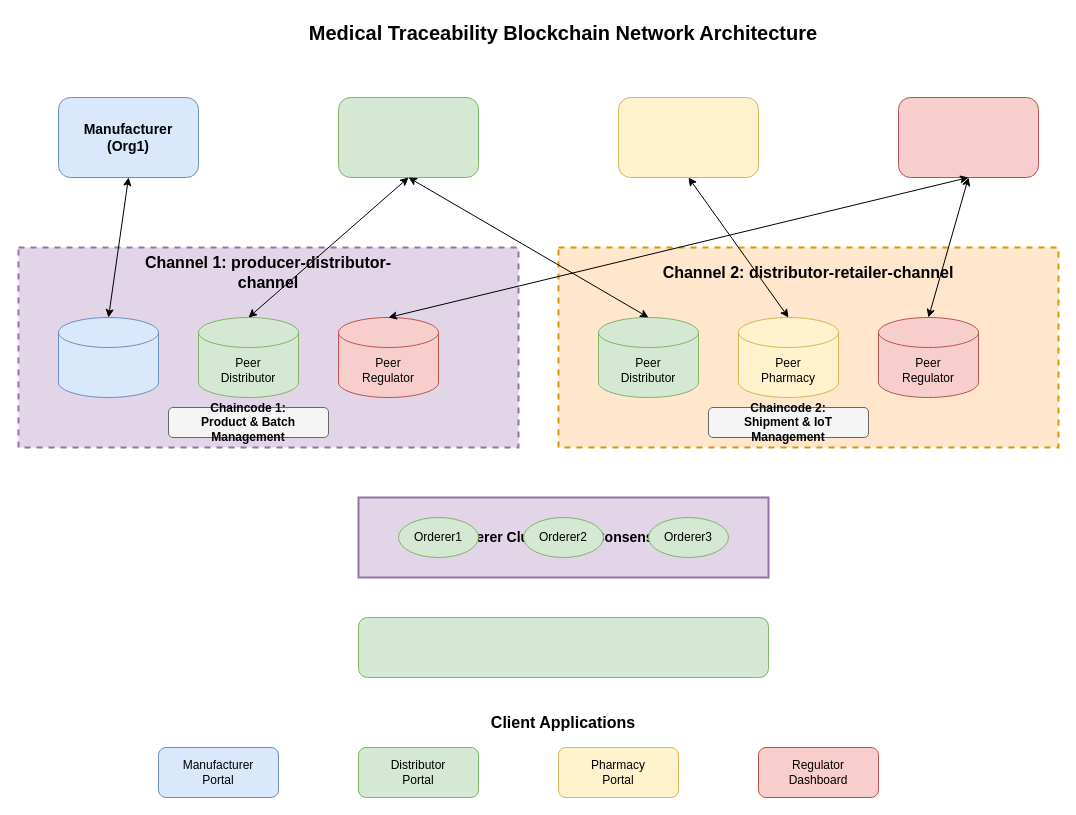
The diagram is 1076 pixels wide and 815 high, and some of its shapes have lost their labels. The centre of each missing label's shape, as x and y in pixels:
Distributor (Org2): point (408, 137)
Peer Manufacturer: point (108, 357)
Pharmacy (Org3): point (688, 137)
Regulator (Org4): point (968, 137)
REST API Layer (Node.js): point (563, 647)
